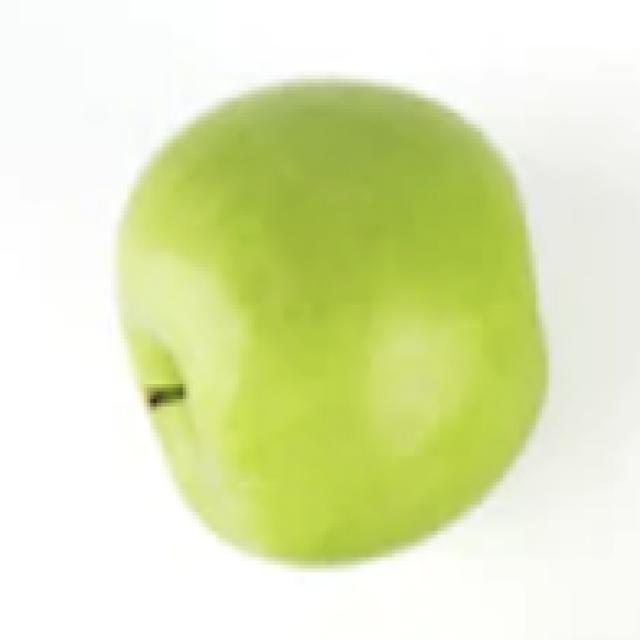Fresh Apple: (146, 87, 562, 545)
